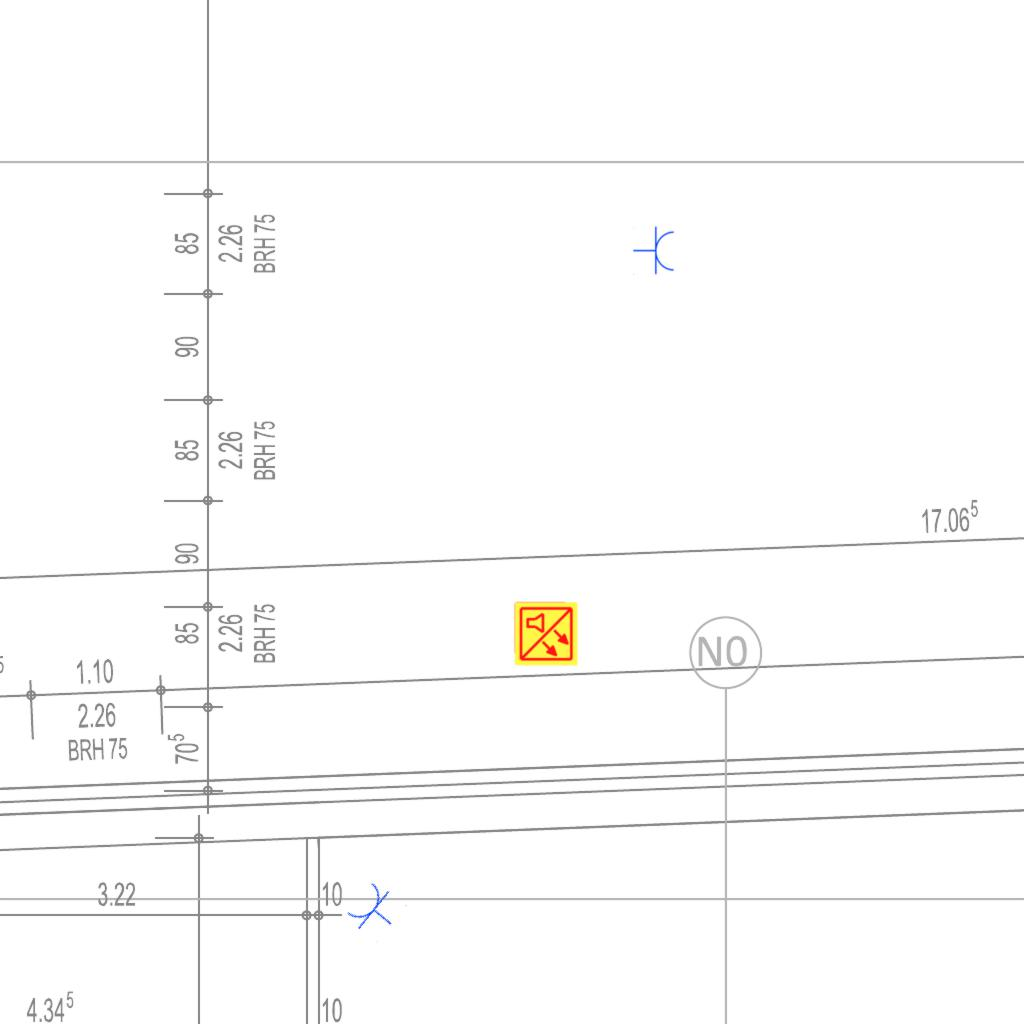OKW_Multisensormelder_(Kombination_optischer_Rauch-Kahlenmonoxid_Waerme-Melder): (513, 601, 579, 667)
Schukosteckdose_einfach: (342, 877, 408, 944), (633, 226, 676, 276)
